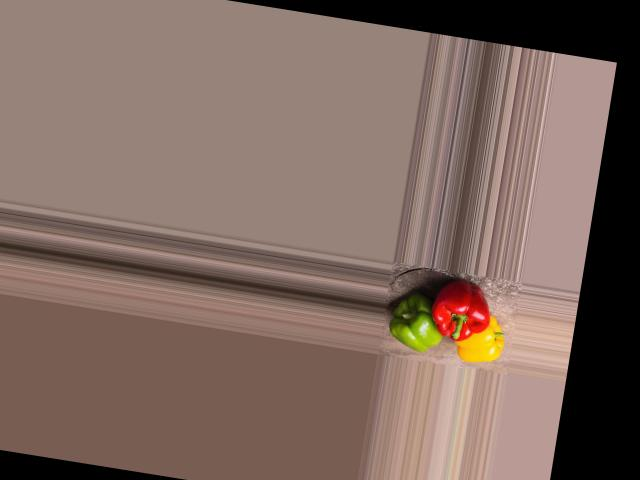bell_pepper: (454, 310, 507, 369)
